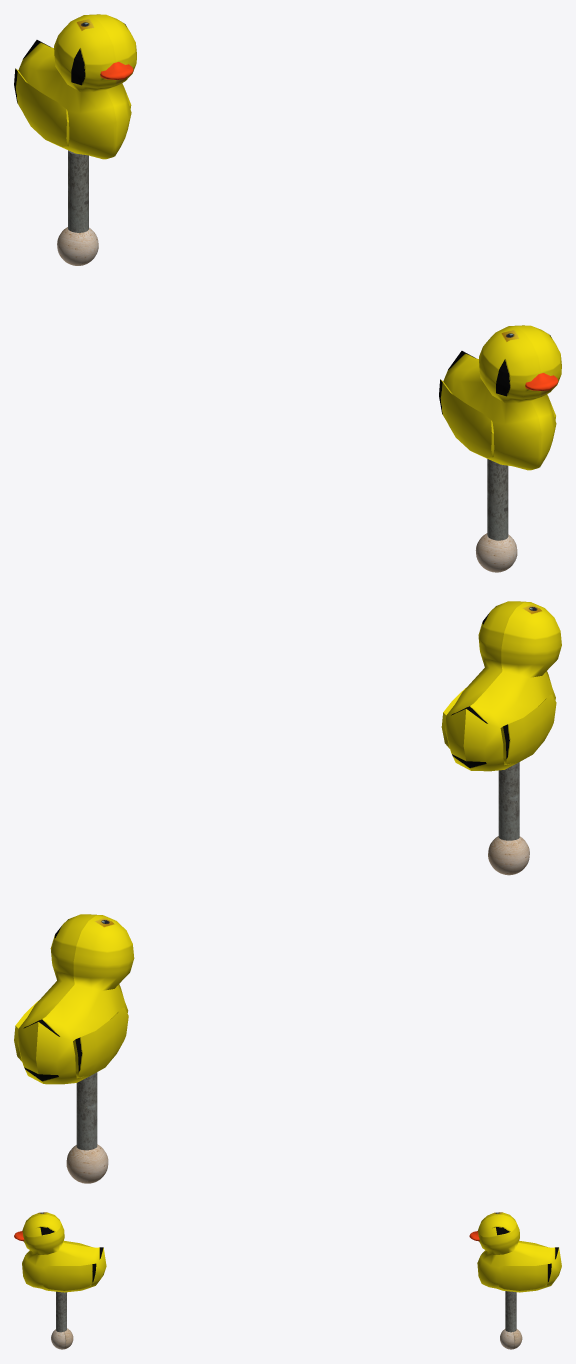
Rendered from Patos3.obj.
The picture shows the model from 3 angles, top to bottom: view 1: azimuth 30°, elevation 25°; view 2: azimuth 150°, elevation 25°; view 3: azimuth 270°, elevation 25°; orthographic projection. The views are drawn at different scales.
Parts seen in each view (by area): view 1: pCube71, pCube73, pCylinder8, pCylinder12, pSphere8, pSphere2; view 2: pCube73, pCube71, pCylinder8, pCylinder12, pSphere2, pSphere8; view 3: pCube71, pCube73, pCylinder12, pCylinder8, pSphere2, pSphere8.
Boxes of the visible parts, x1,y1,x2,y2 form: pCube71: (439, 325, 561, 470); pCube73: (14, 14, 136, 159); pCylinder8: (487, 459, 508, 540); pCylinder12: (68, 150, 88, 232); pSphere8: (57, 227, 98, 265); pSphere2: (475, 533, 517, 572); pCube73: (14, 914, 134, 1084); pCube71: (441, 601, 561, 771); pCylinder8: (498, 762, 519, 840); pCylinder12: (76, 1072, 97, 1150); pSphere2: (488, 836, 529, 875); pSphere8: (66, 1144, 108, 1183); pCube71: (14, 1212, 106, 1292); pCube73: (469, 1212, 561, 1292); pCylinder12: (505, 1291, 516, 1332); pCylinder8: (56, 1291, 66, 1332); pSphere2: (51, 1328, 73, 1349); pSphere8: (500, 1329, 522, 1349).
Bounding box in the file's own units: 0.8605 × 2.65 × 9.75.
